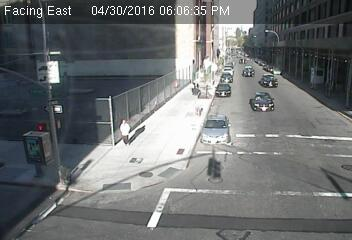neg: (194, 48, 215, 76), (186, 79, 201, 100), (204, 66, 216, 83)
pos: (111, 115, 135, 147)
